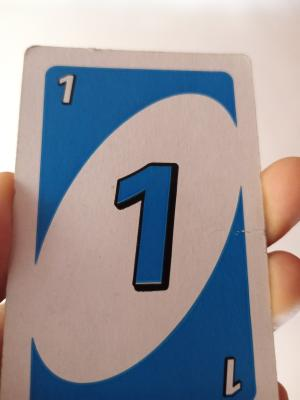blue: (38, 67, 249, 388)
num_1: (50, 70, 90, 116), (212, 348, 249, 396)
